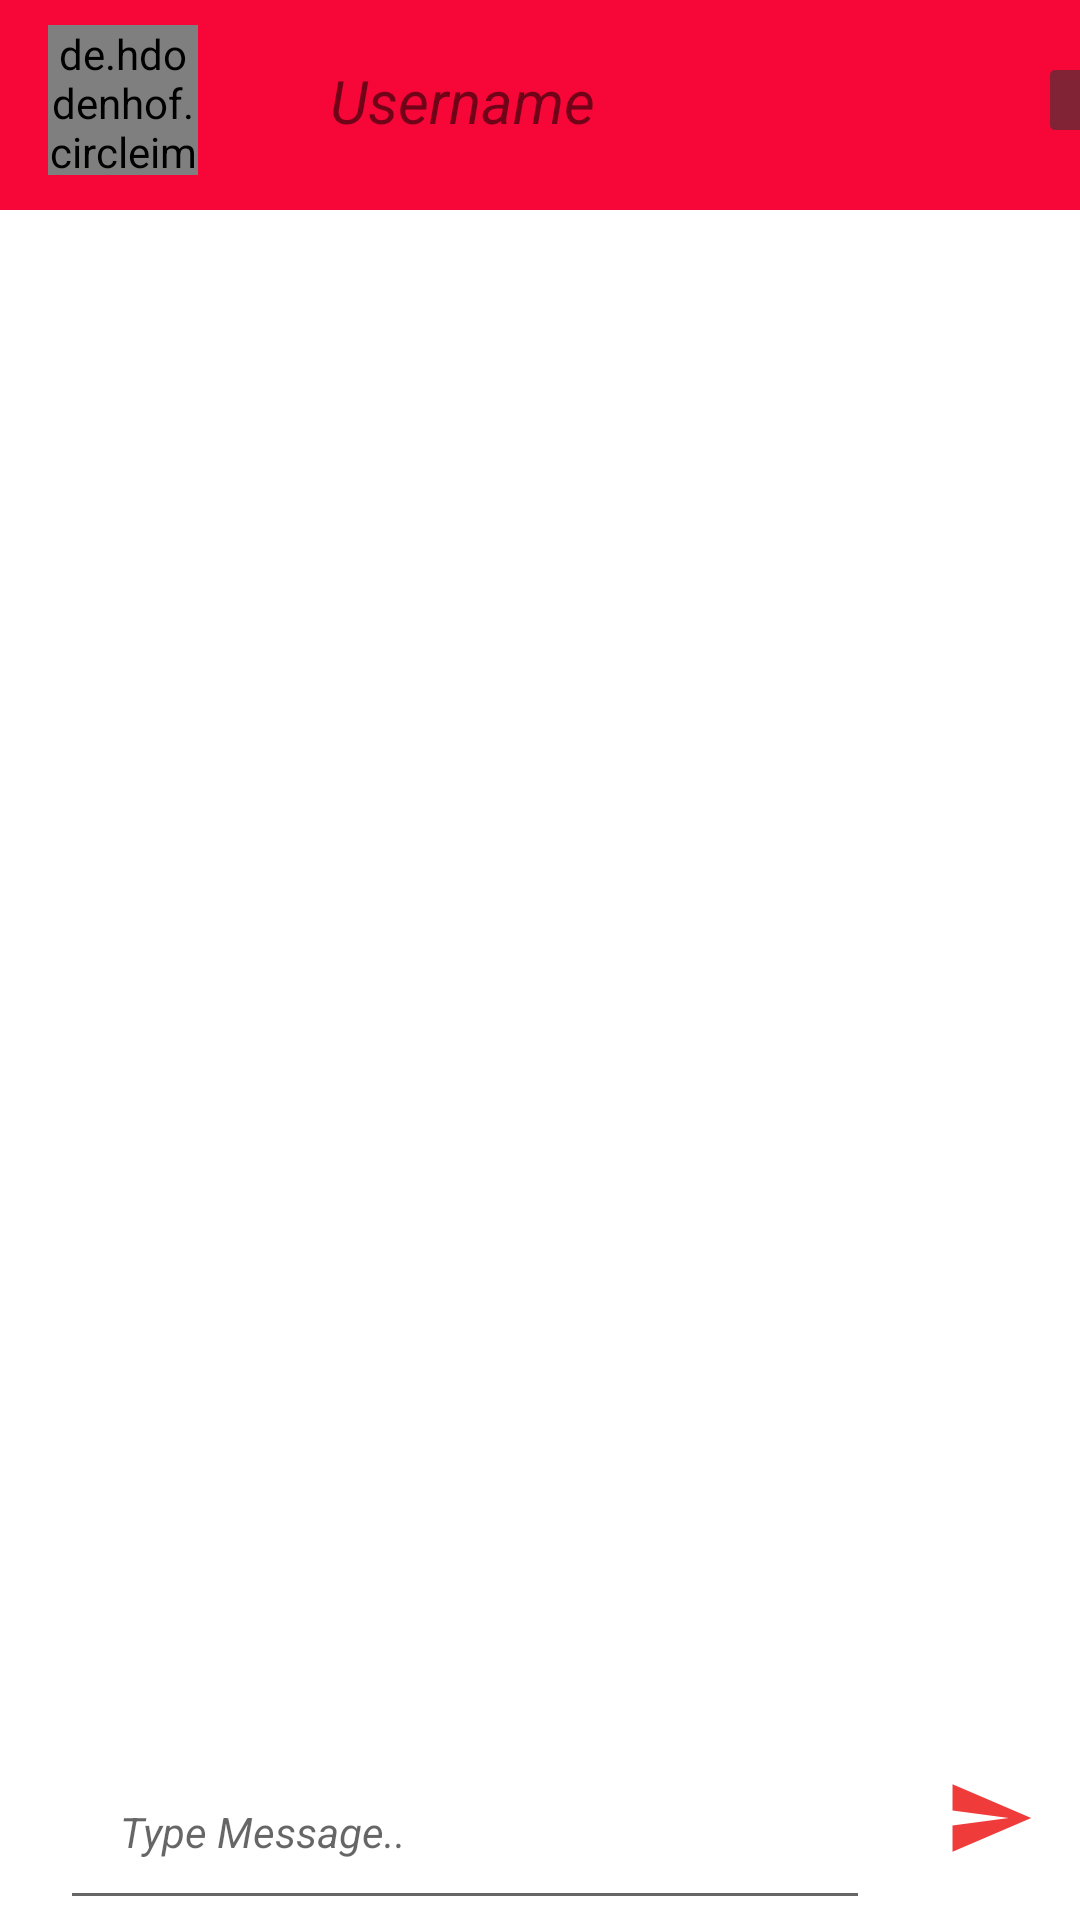

Where icons sit on this 1080x1920 app screen, as (x1, y1, x2, y2):
send: (952, 1784, 1031, 1852)
